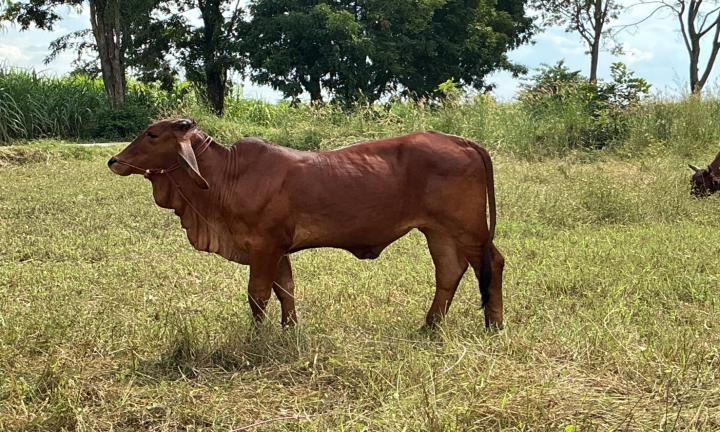Brahman: (108, 118, 504, 327)
